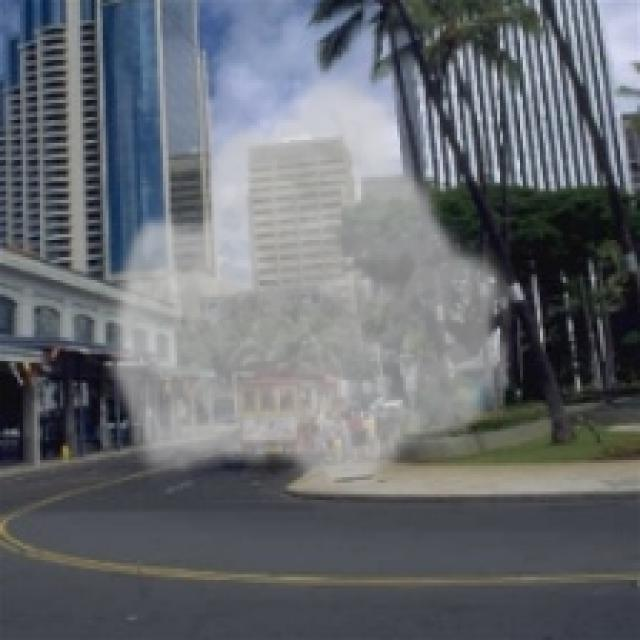smoke: (100, 66, 523, 491)
